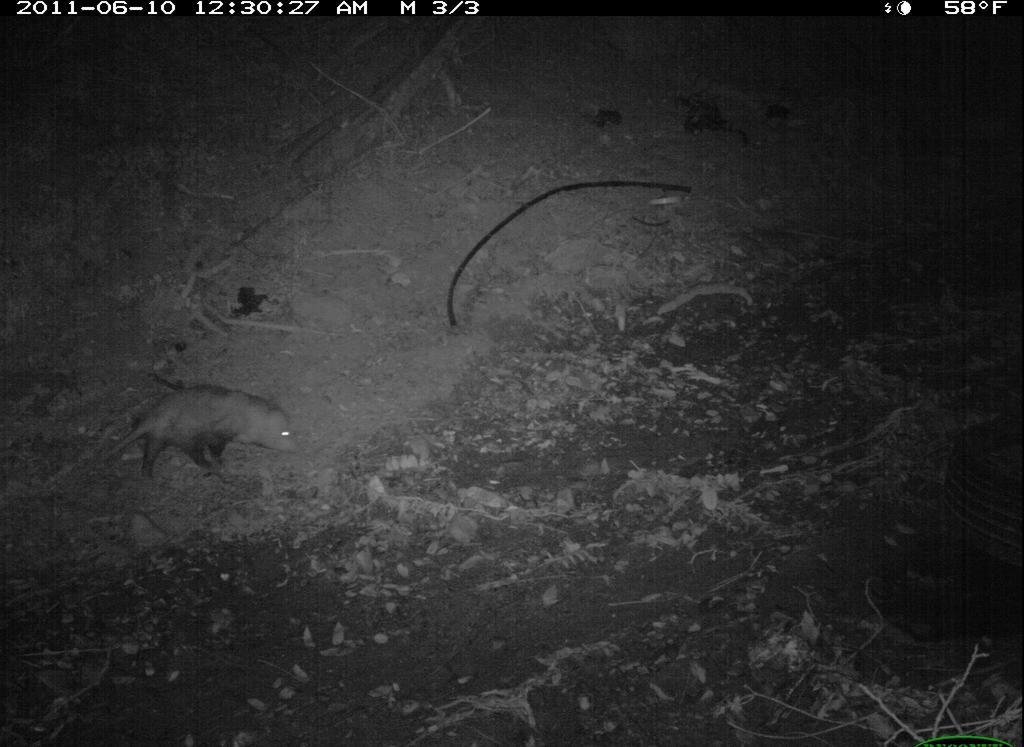opossum: (97, 377, 321, 500)
